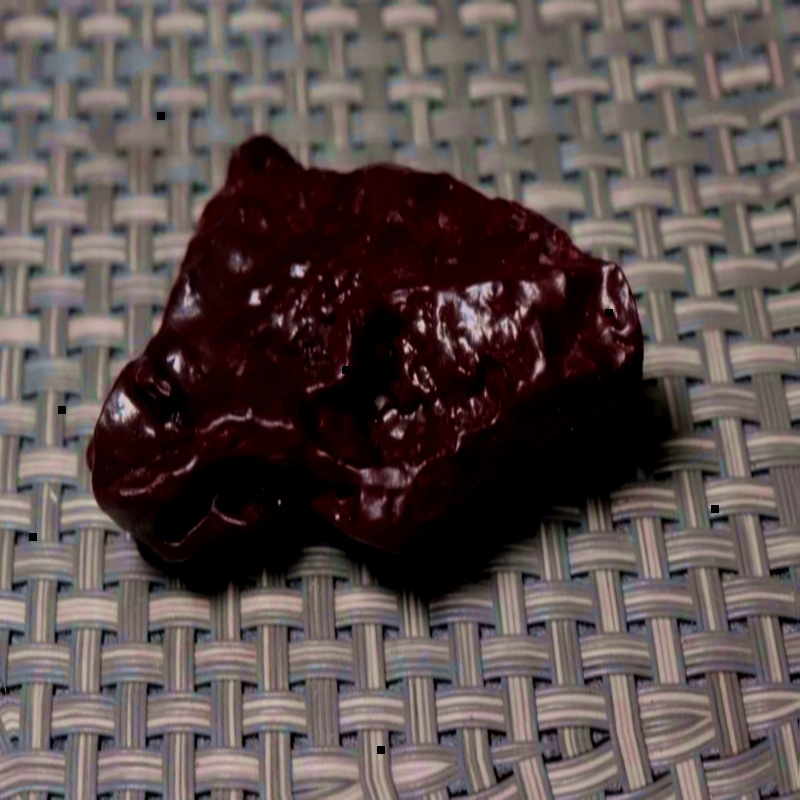halobolite: (20, 63, 692, 624)
